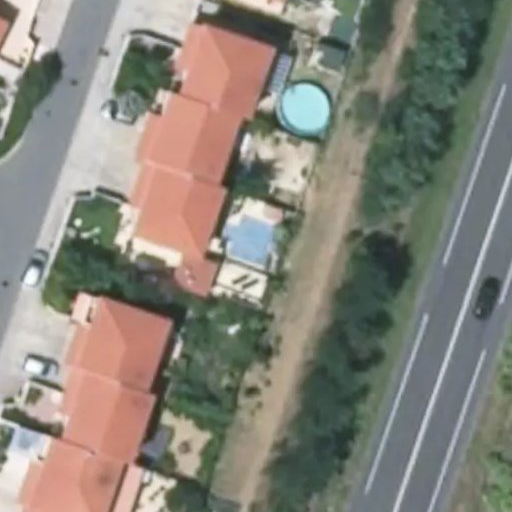pool: (218, 214, 275, 271), (279, 83, 334, 136)
